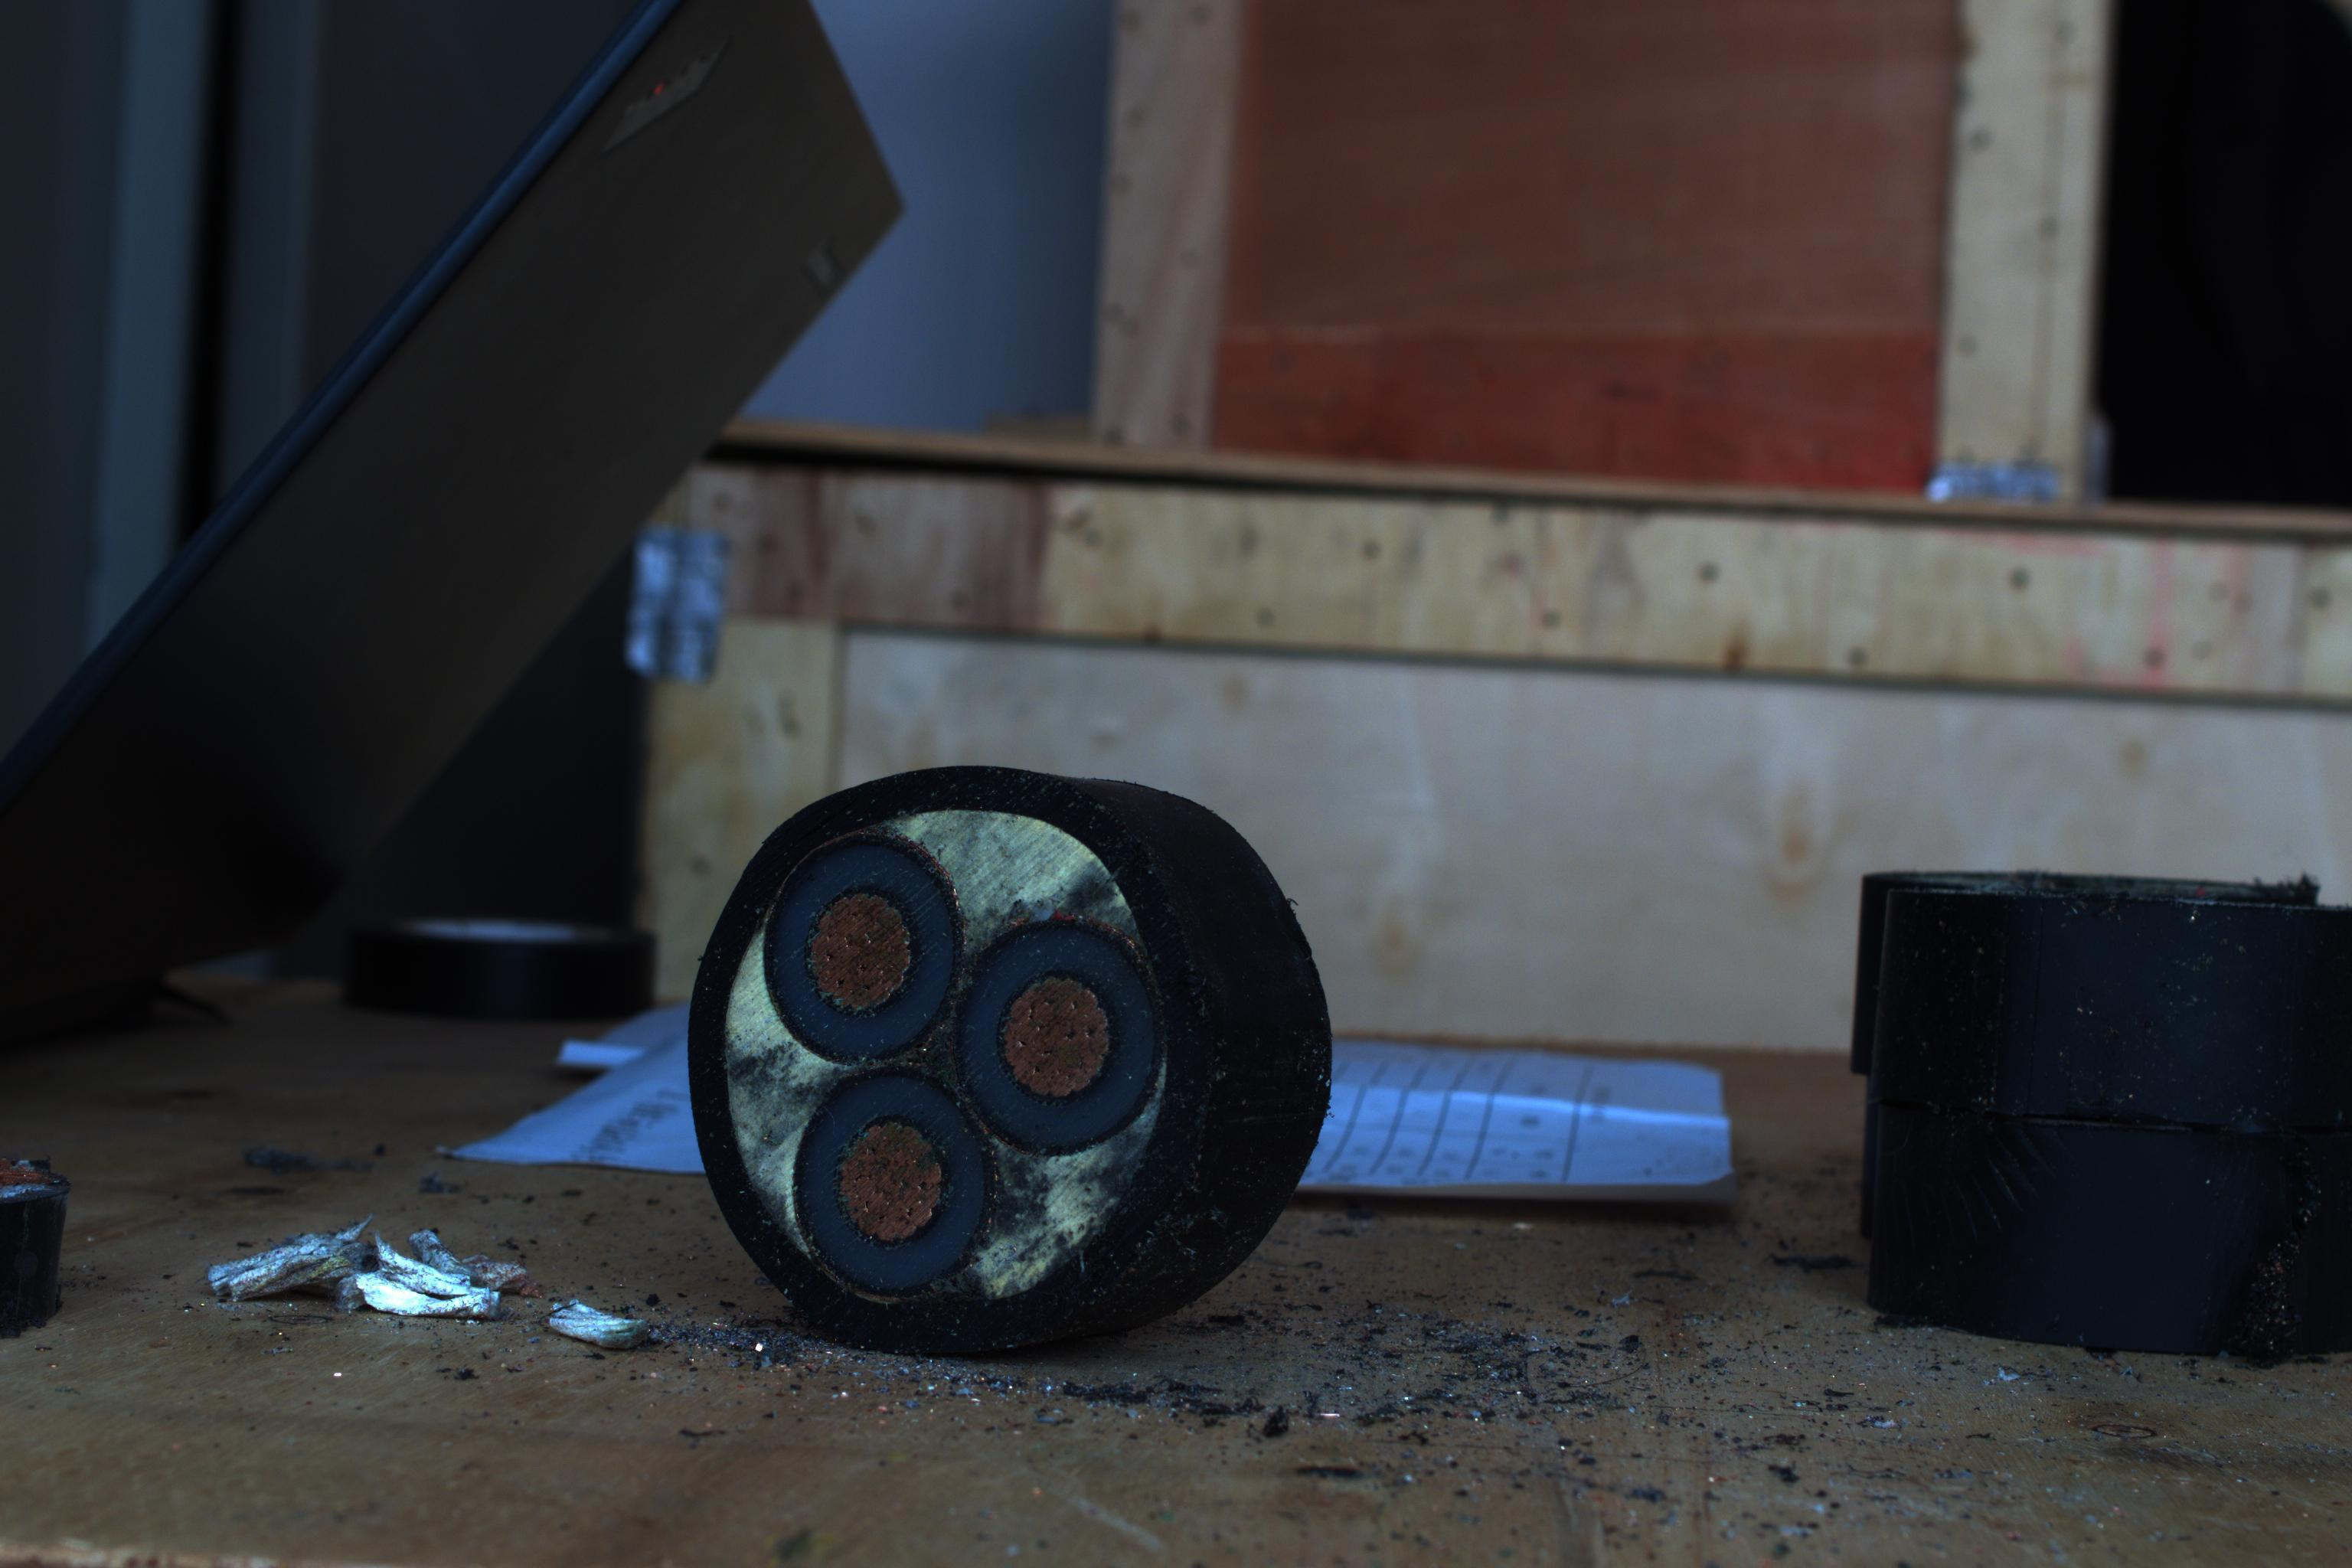ZA_YJV_8.7_10kV_3x120: (684, 784, 1195, 1309)
